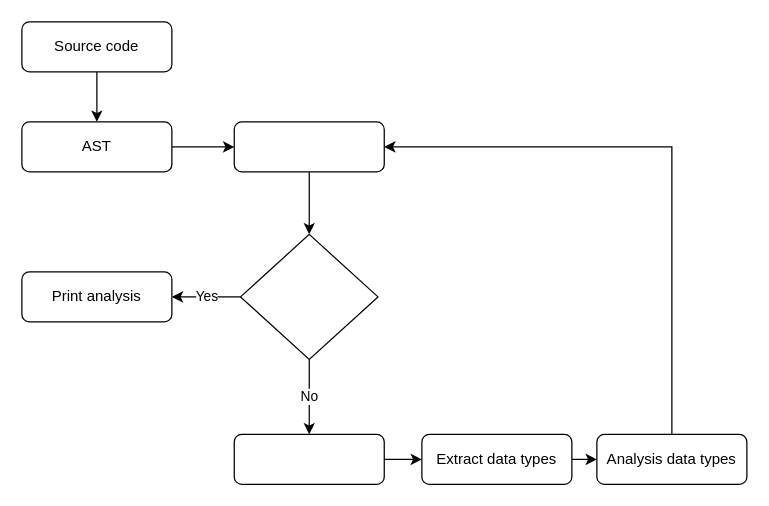
Some shapes in this 769 by 506 pixel diagram are drawn without their labels. Each missing label, with the box of its shape:
End Node: (239, 233, 378, 359)
Node: (233, 121, 384, 172)
Visitor function: (233, 433, 384, 484)
